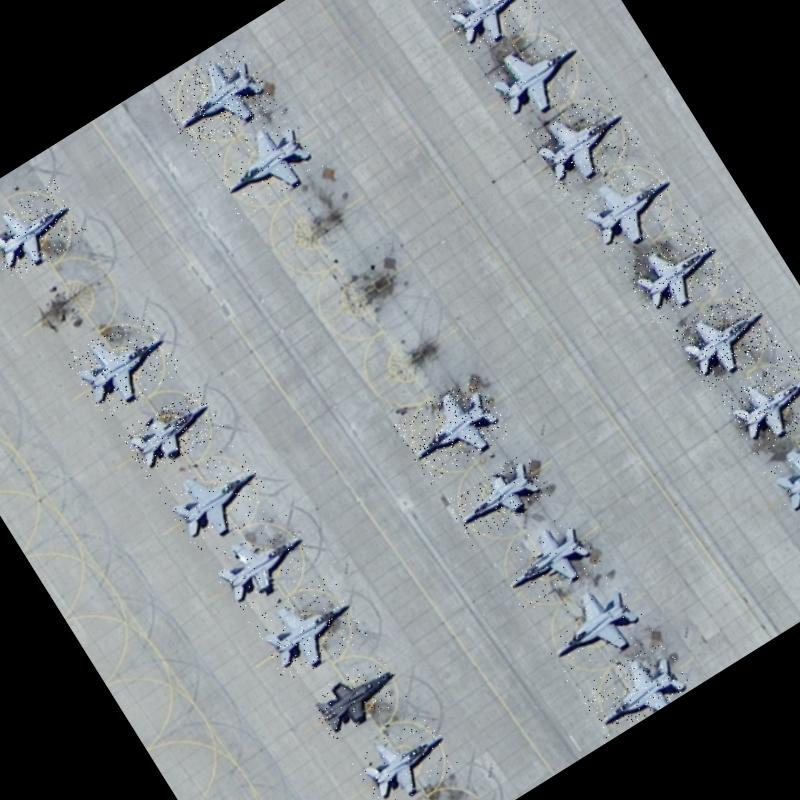A16: (154, 41, 279, 159), (531, 570, 656, 686), (247, 570, 370, 687), (63, 306, 186, 422), (391, 372, 513, 486), (203, 108, 325, 222), (571, 150, 692, 264), (478, 17, 598, 131), (524, 84, 644, 198), (157, 441, 277, 555), (201, 506, 320, 616), (489, 508, 604, 616), (619, 219, 734, 326), (576, 636, 694, 740), (670, 284, 783, 392), (349, 708, 463, 800), (118, 384, 226, 480), (444, 451, 553, 546), (0, 178, 90, 284), (307, 651, 408, 742), (717, 347, 800, 457), (433, 0, 548, 62), (759, 414, 800, 530)
